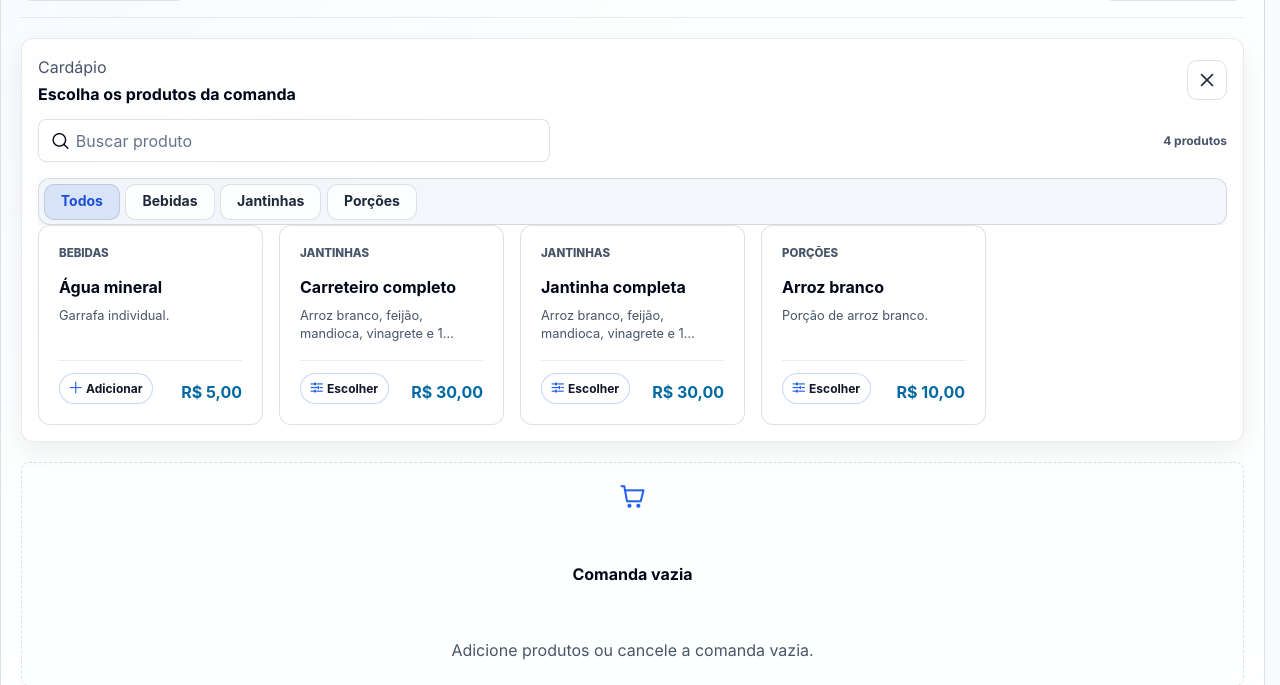
it: TabsPageComponent › opens the shared choices dialog for Arroz branco in comandas
The width and height of the screenshot is (1280, 685).
(page scrolled)
Click the 4th button with class "counter-product".
click(874, 325)  # box [761,225,986,425]
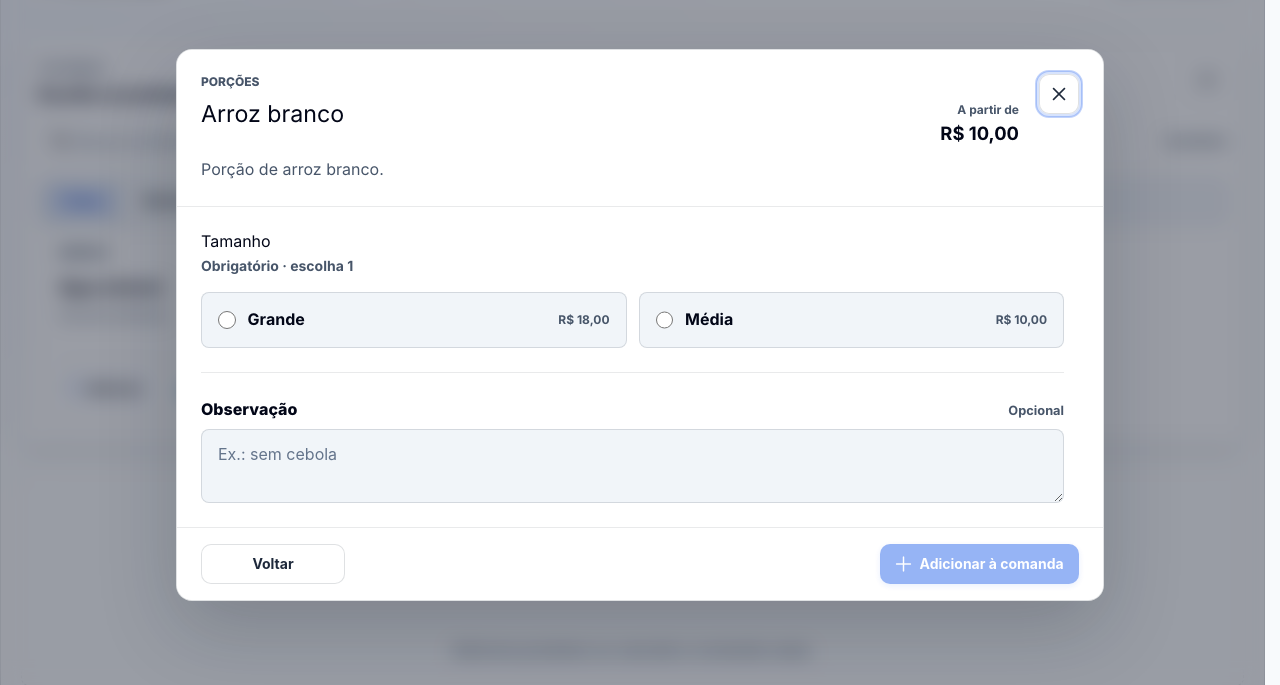
Result: the heading "Arroz branco" is shown at [201,101,344,129]
Result: the dialog with class "choice-dialog" is shown at [176,49,1104,601]
